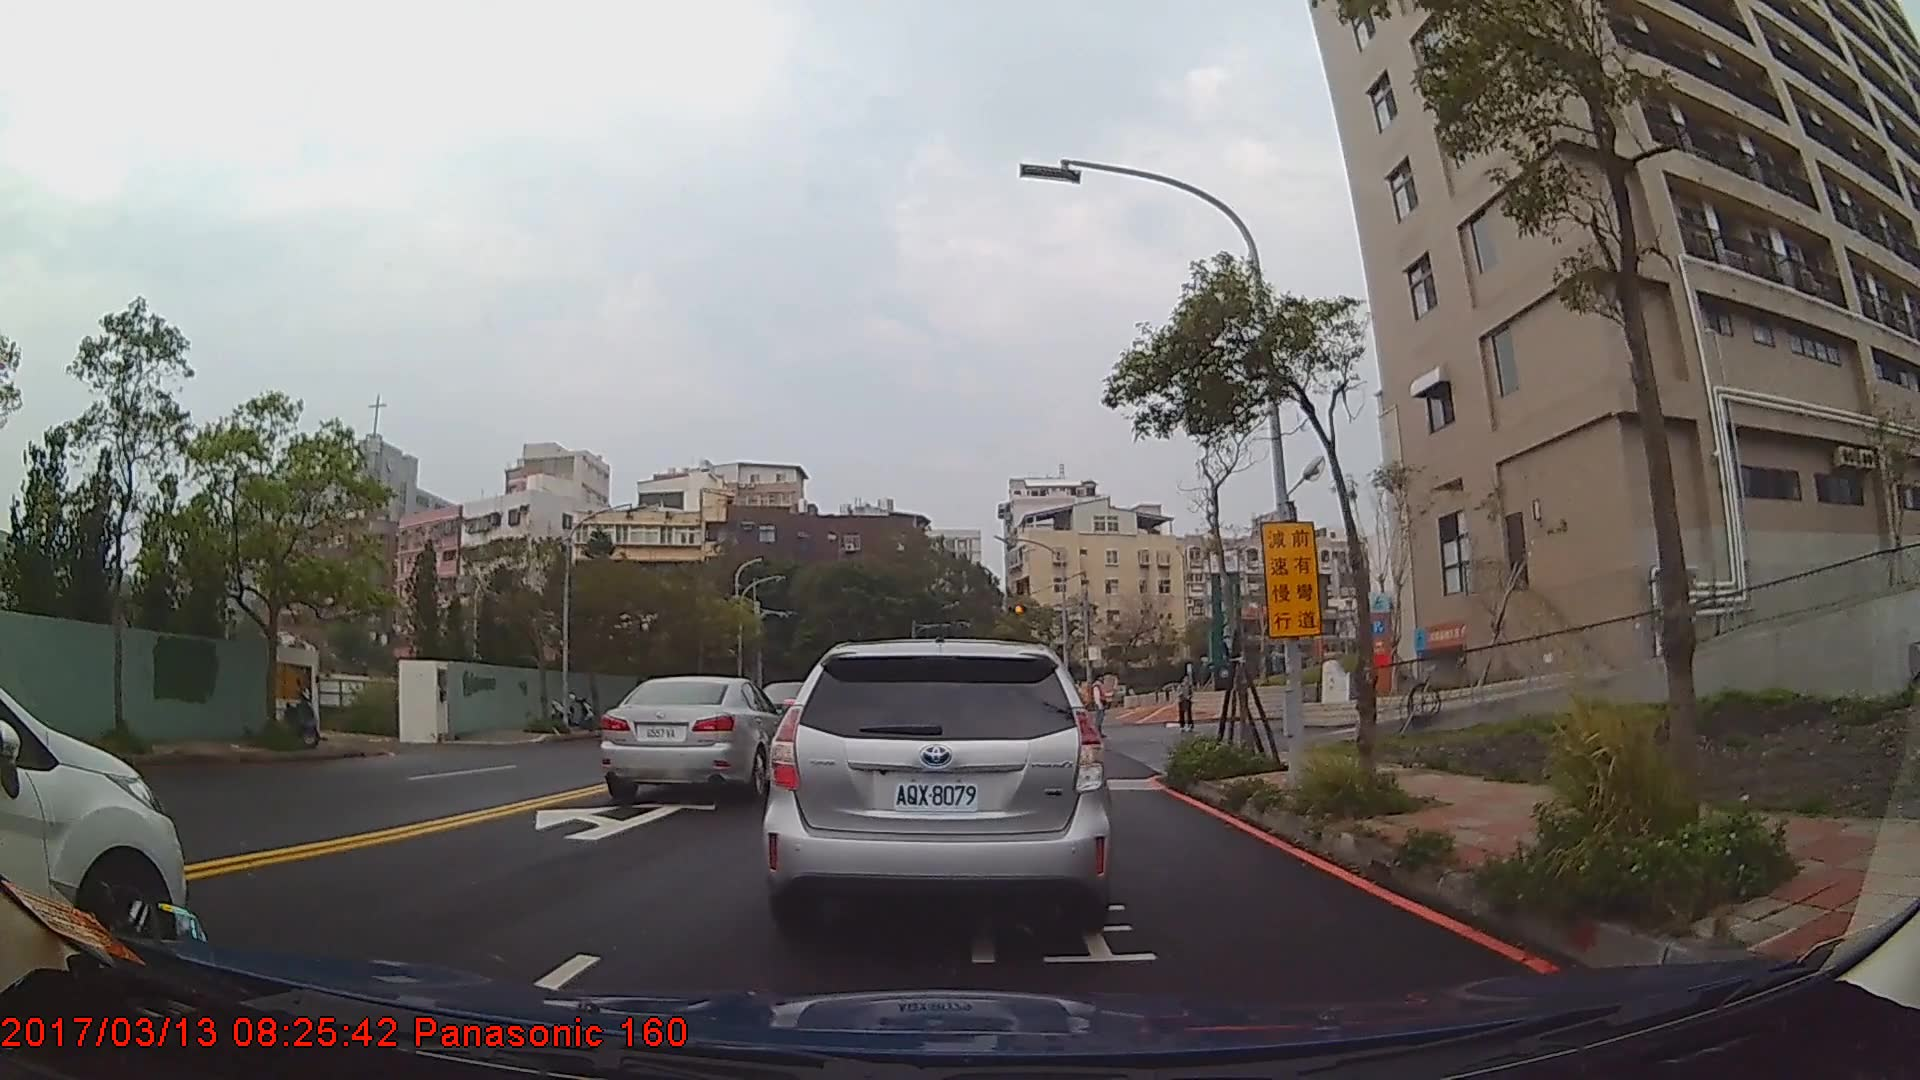pedestrian: (1089, 667, 1113, 743), (1177, 676, 1197, 734)
vehicle: (762, 637, 1112, 948), (0, 683, 188, 973), (600, 673, 791, 804)
